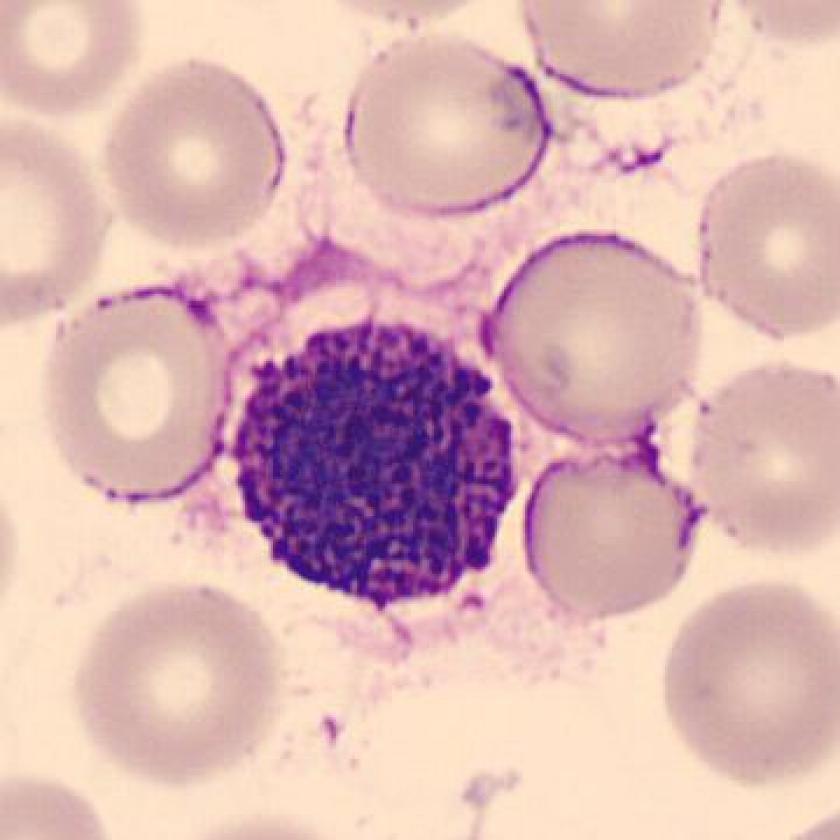basophil: (223, 290, 535, 619)
